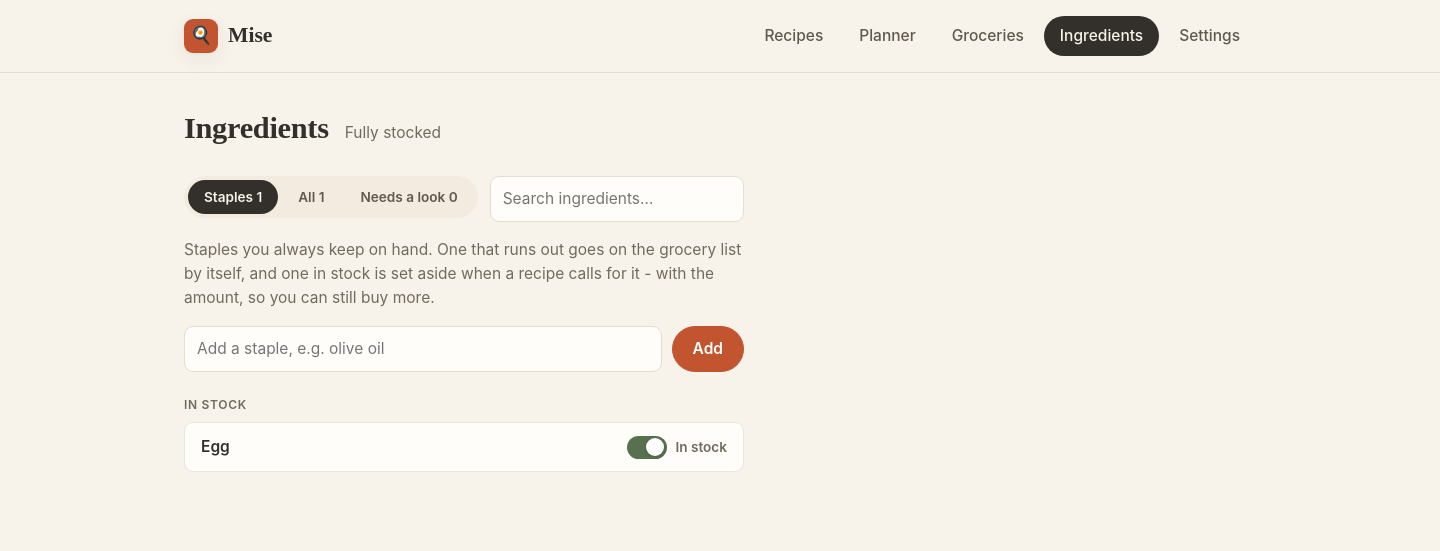
Test: IngredientsPage: staples › explains why a staple could not be added, keeping what was typed
Expected: the link "Egg" is shown, [201,437,230,456]
In the field labelled "Add a staple": x=423, y=349 [184,326,662,372], type "Eggs"
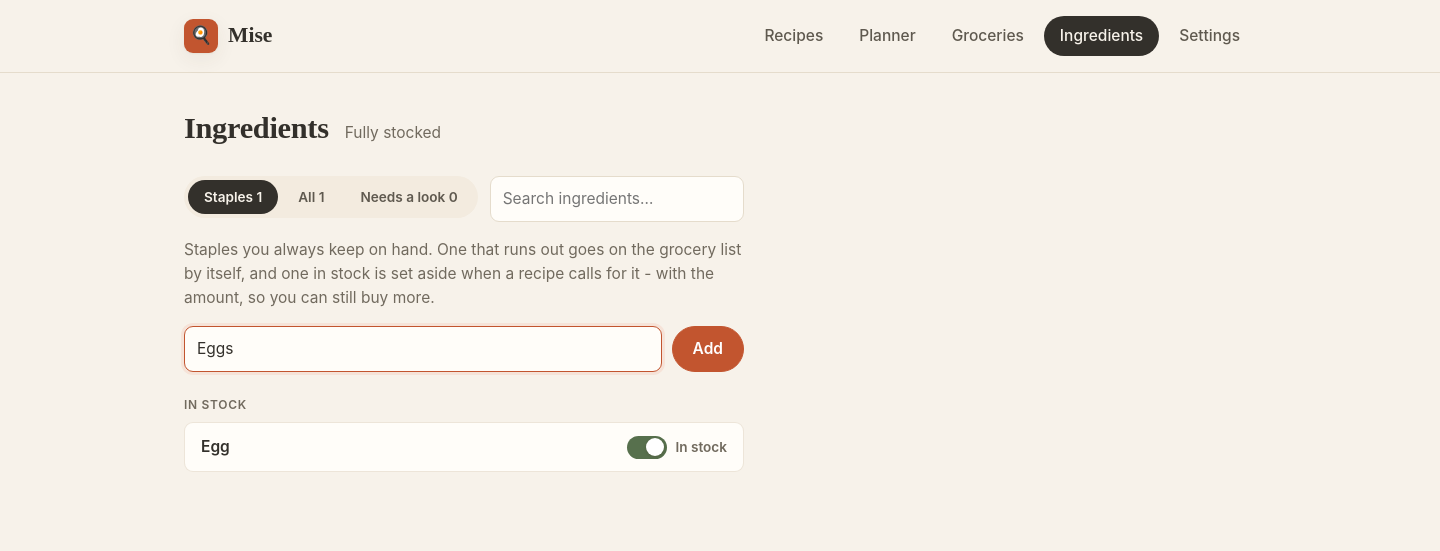
Click the button "Add": x=708, y=349 [672,326,744,372]
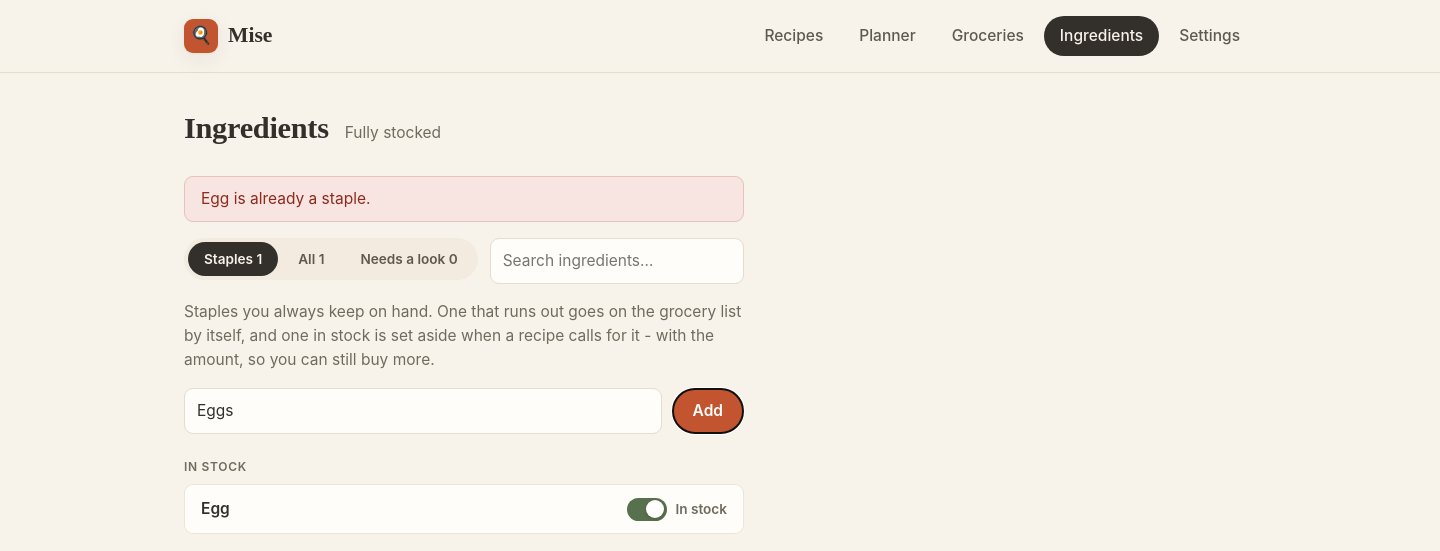
Expected: the text "Egg is already a staple." is shown, [184,176,744,222]
